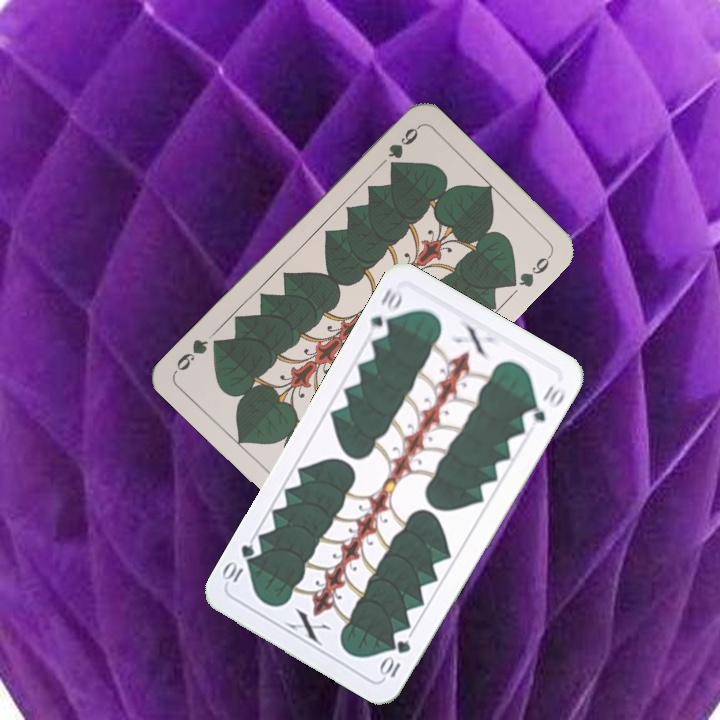G10: (364, 283, 406, 342), (376, 636, 414, 681)
G9: (384, 123, 422, 162)
